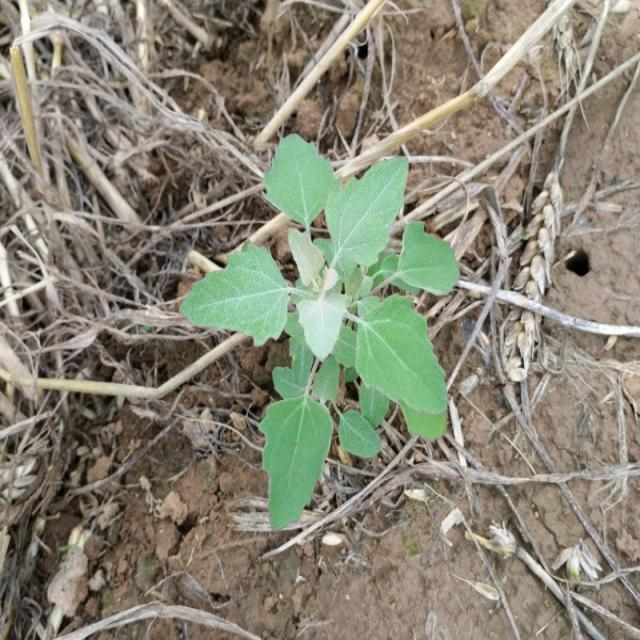goosefoots: (190, 127, 472, 531)
